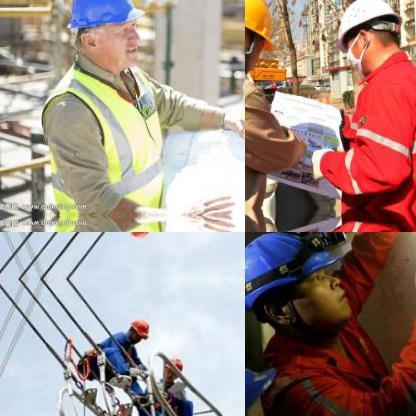Helmet: (245, 232, 354, 337), (58, 0, 150, 74), (330, 0, 409, 70), (245, 0, 283, 73), (158, 350, 186, 384), (126, 314, 150, 342), (126, 232, 151, 241)
